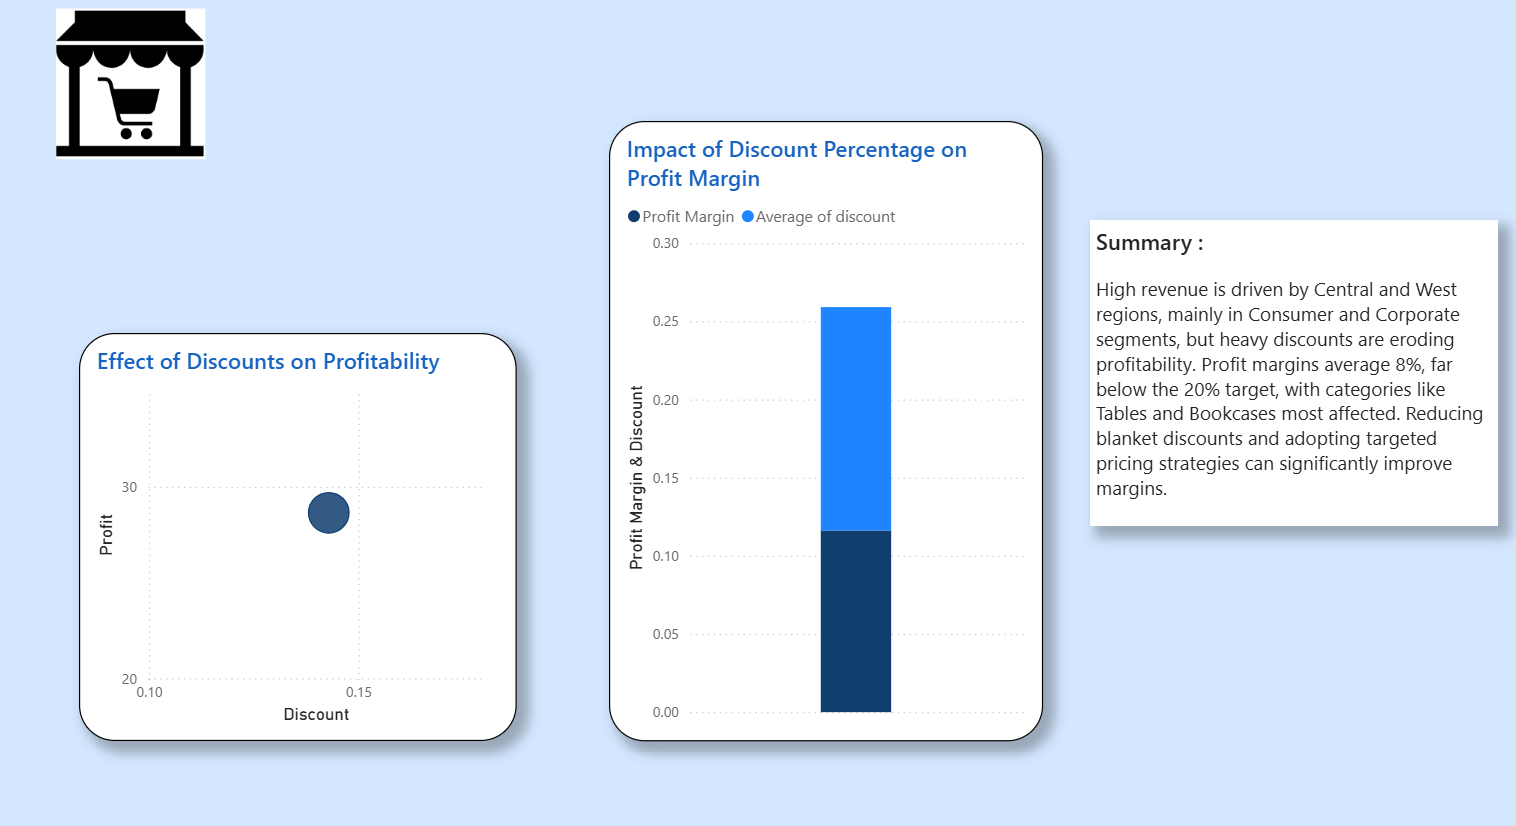

This screenshot's page, from the dashboard's own definition file:
{"tool":"powerbi","page":{"name":"Page 2","canvas":[1280,720],"ordinal":2},"visuals":[{"type":"scatterChart","title":"Effect of Discounts on Profitability","fields":{"X":["Avg(super store dataset.discount)"],"Y":["Avg(super store dataset.profit)"],"Size":["Avg(super store dataset.Revenue)"]},"box":[67.7,292.3,368.6,344.2],"z":0},{"type":"columnChart","title":"Impact of Discount Percentage on Profit Margin","fields":{"Y":["super store dataset.Profit Margin","Avg(super store dataset.discount)"]},"box":[514.1,113.8,365.8,522.7],"z":1000},{"type":"image","box":[42.9,0,135.7,164.3],"z":2000},{"type":"textbox","box":[920.2,197.3,344.2,257.8],"z":3000}]}

Visuals, with their boxes in screenshot pixels (x1, y1, x2, y2):
"Effect of Discounts on Profitability" scatterChart: {"x1": 83, "y1": 331, "x2": 515, "y2": 734}
"Impact of Discount Percentage on Profit Margin" columnChart: {"x1": 606, "y1": 121, "x2": 1035, "y2": 734}
image: {"x1": 54, "y1": 0, "x2": 213, "y2": 181}
textbox: {"x1": 1082, "y1": 219, "x2": 1485, "y2": 521}
